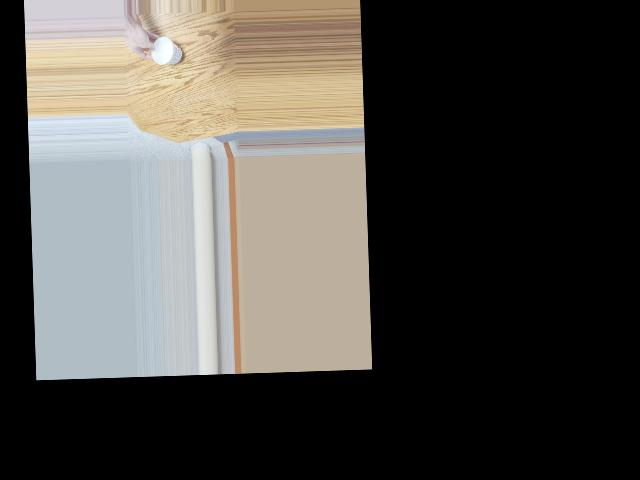cotage: (149, 38, 181, 63)
